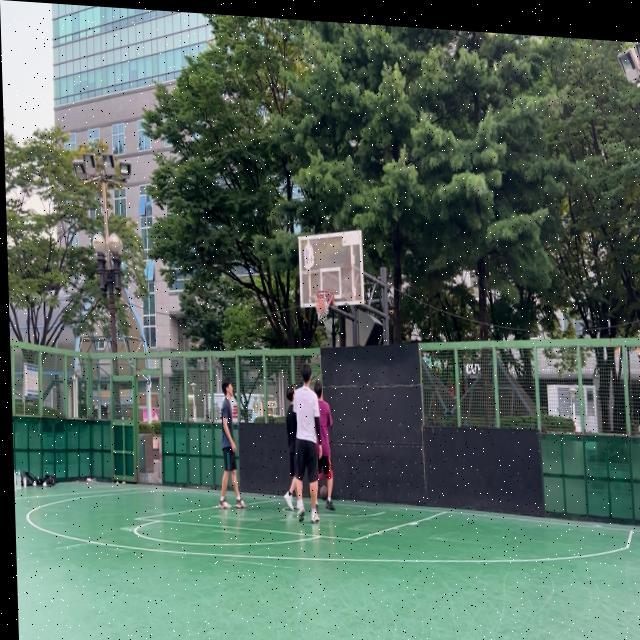basketball: (316, 301, 327, 318), (320, 484, 328, 501)
hoop: (314, 289, 335, 324), (315, 289, 335, 324)
